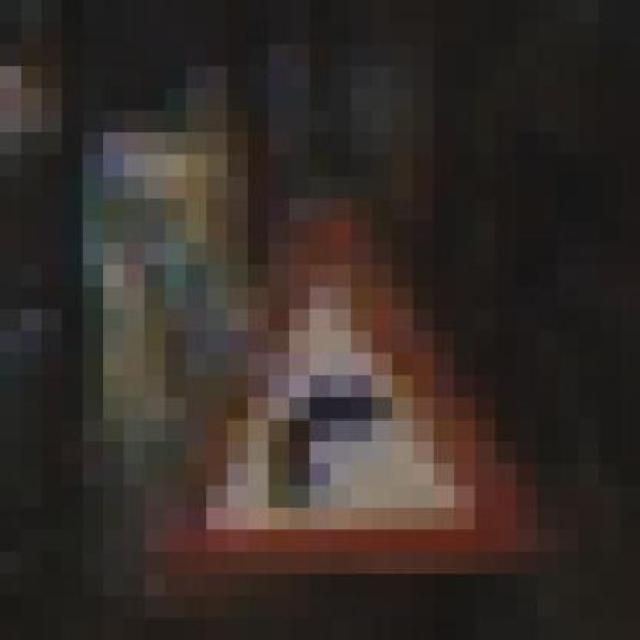Dangerous Rright Curve Ahead: (124, 177, 558, 574)
